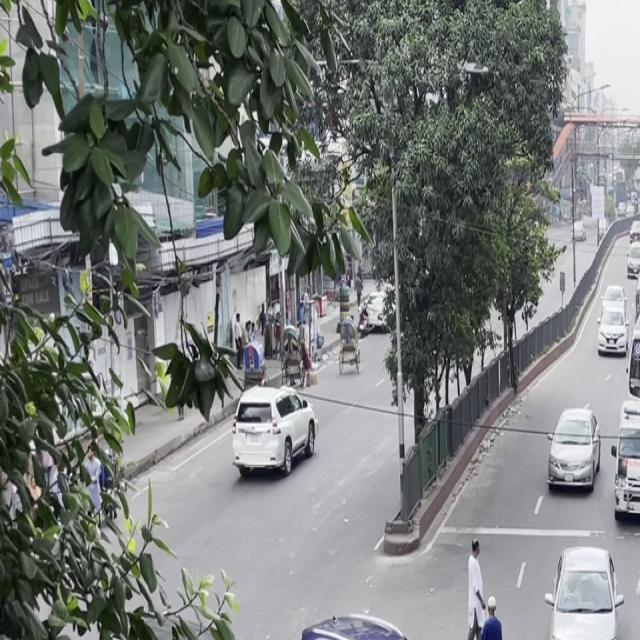bicycle: (461, 600, 533, 640)
bus: (624, 295, 640, 456)
car: (223, 377, 323, 494), (541, 536, 629, 640), (275, 597, 477, 640), (543, 400, 602, 505), (608, 412, 640, 534), (597, 311, 626, 368)
